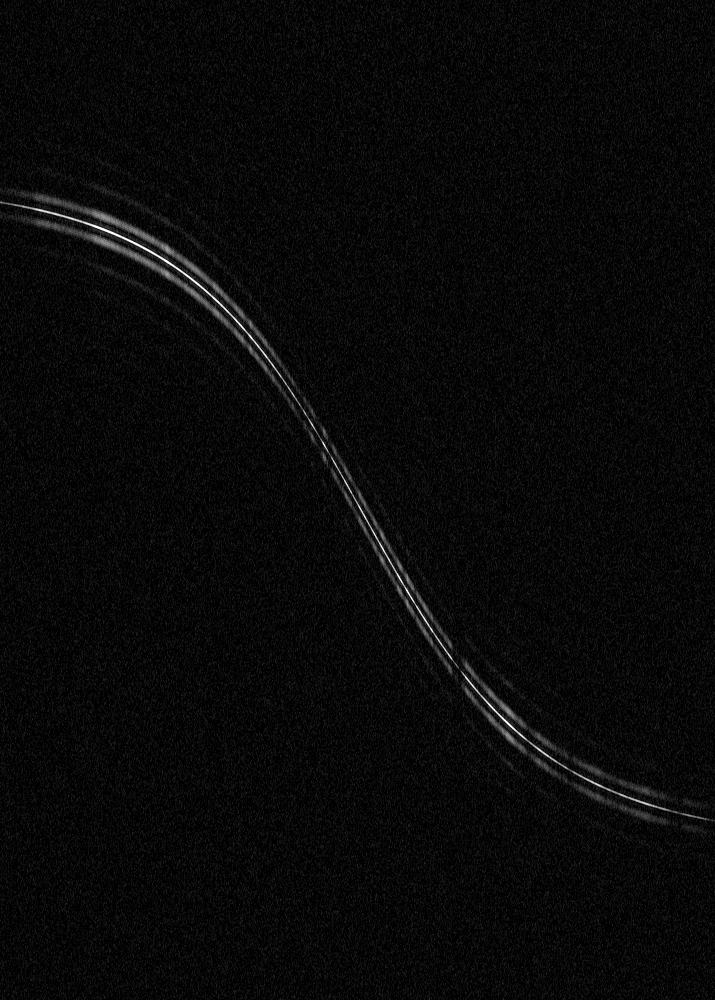signal: (0, 0, 714, 999)
